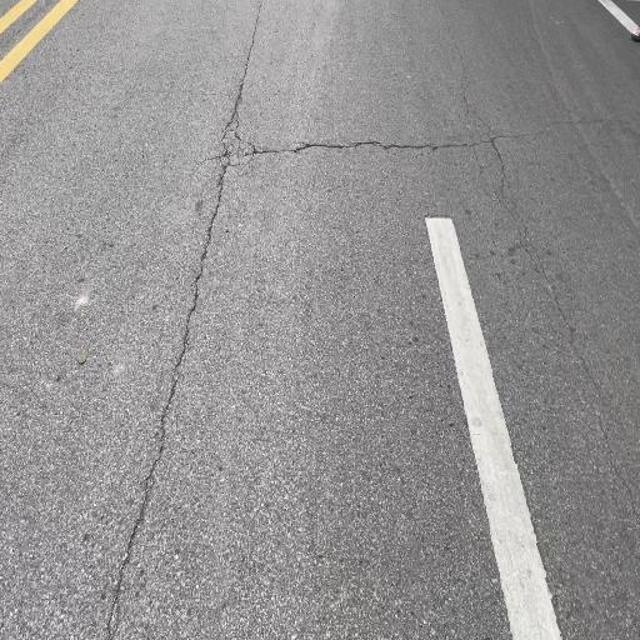Melintang: (202, 129, 521, 164)
Memanjang: (86, 0, 286, 640)
